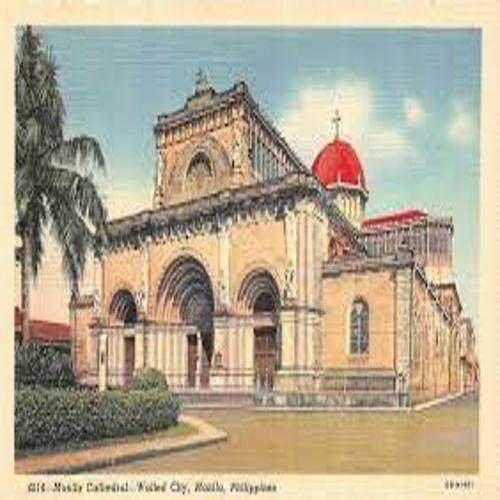Manila Cathedral Church: (57, 53, 473, 411)
